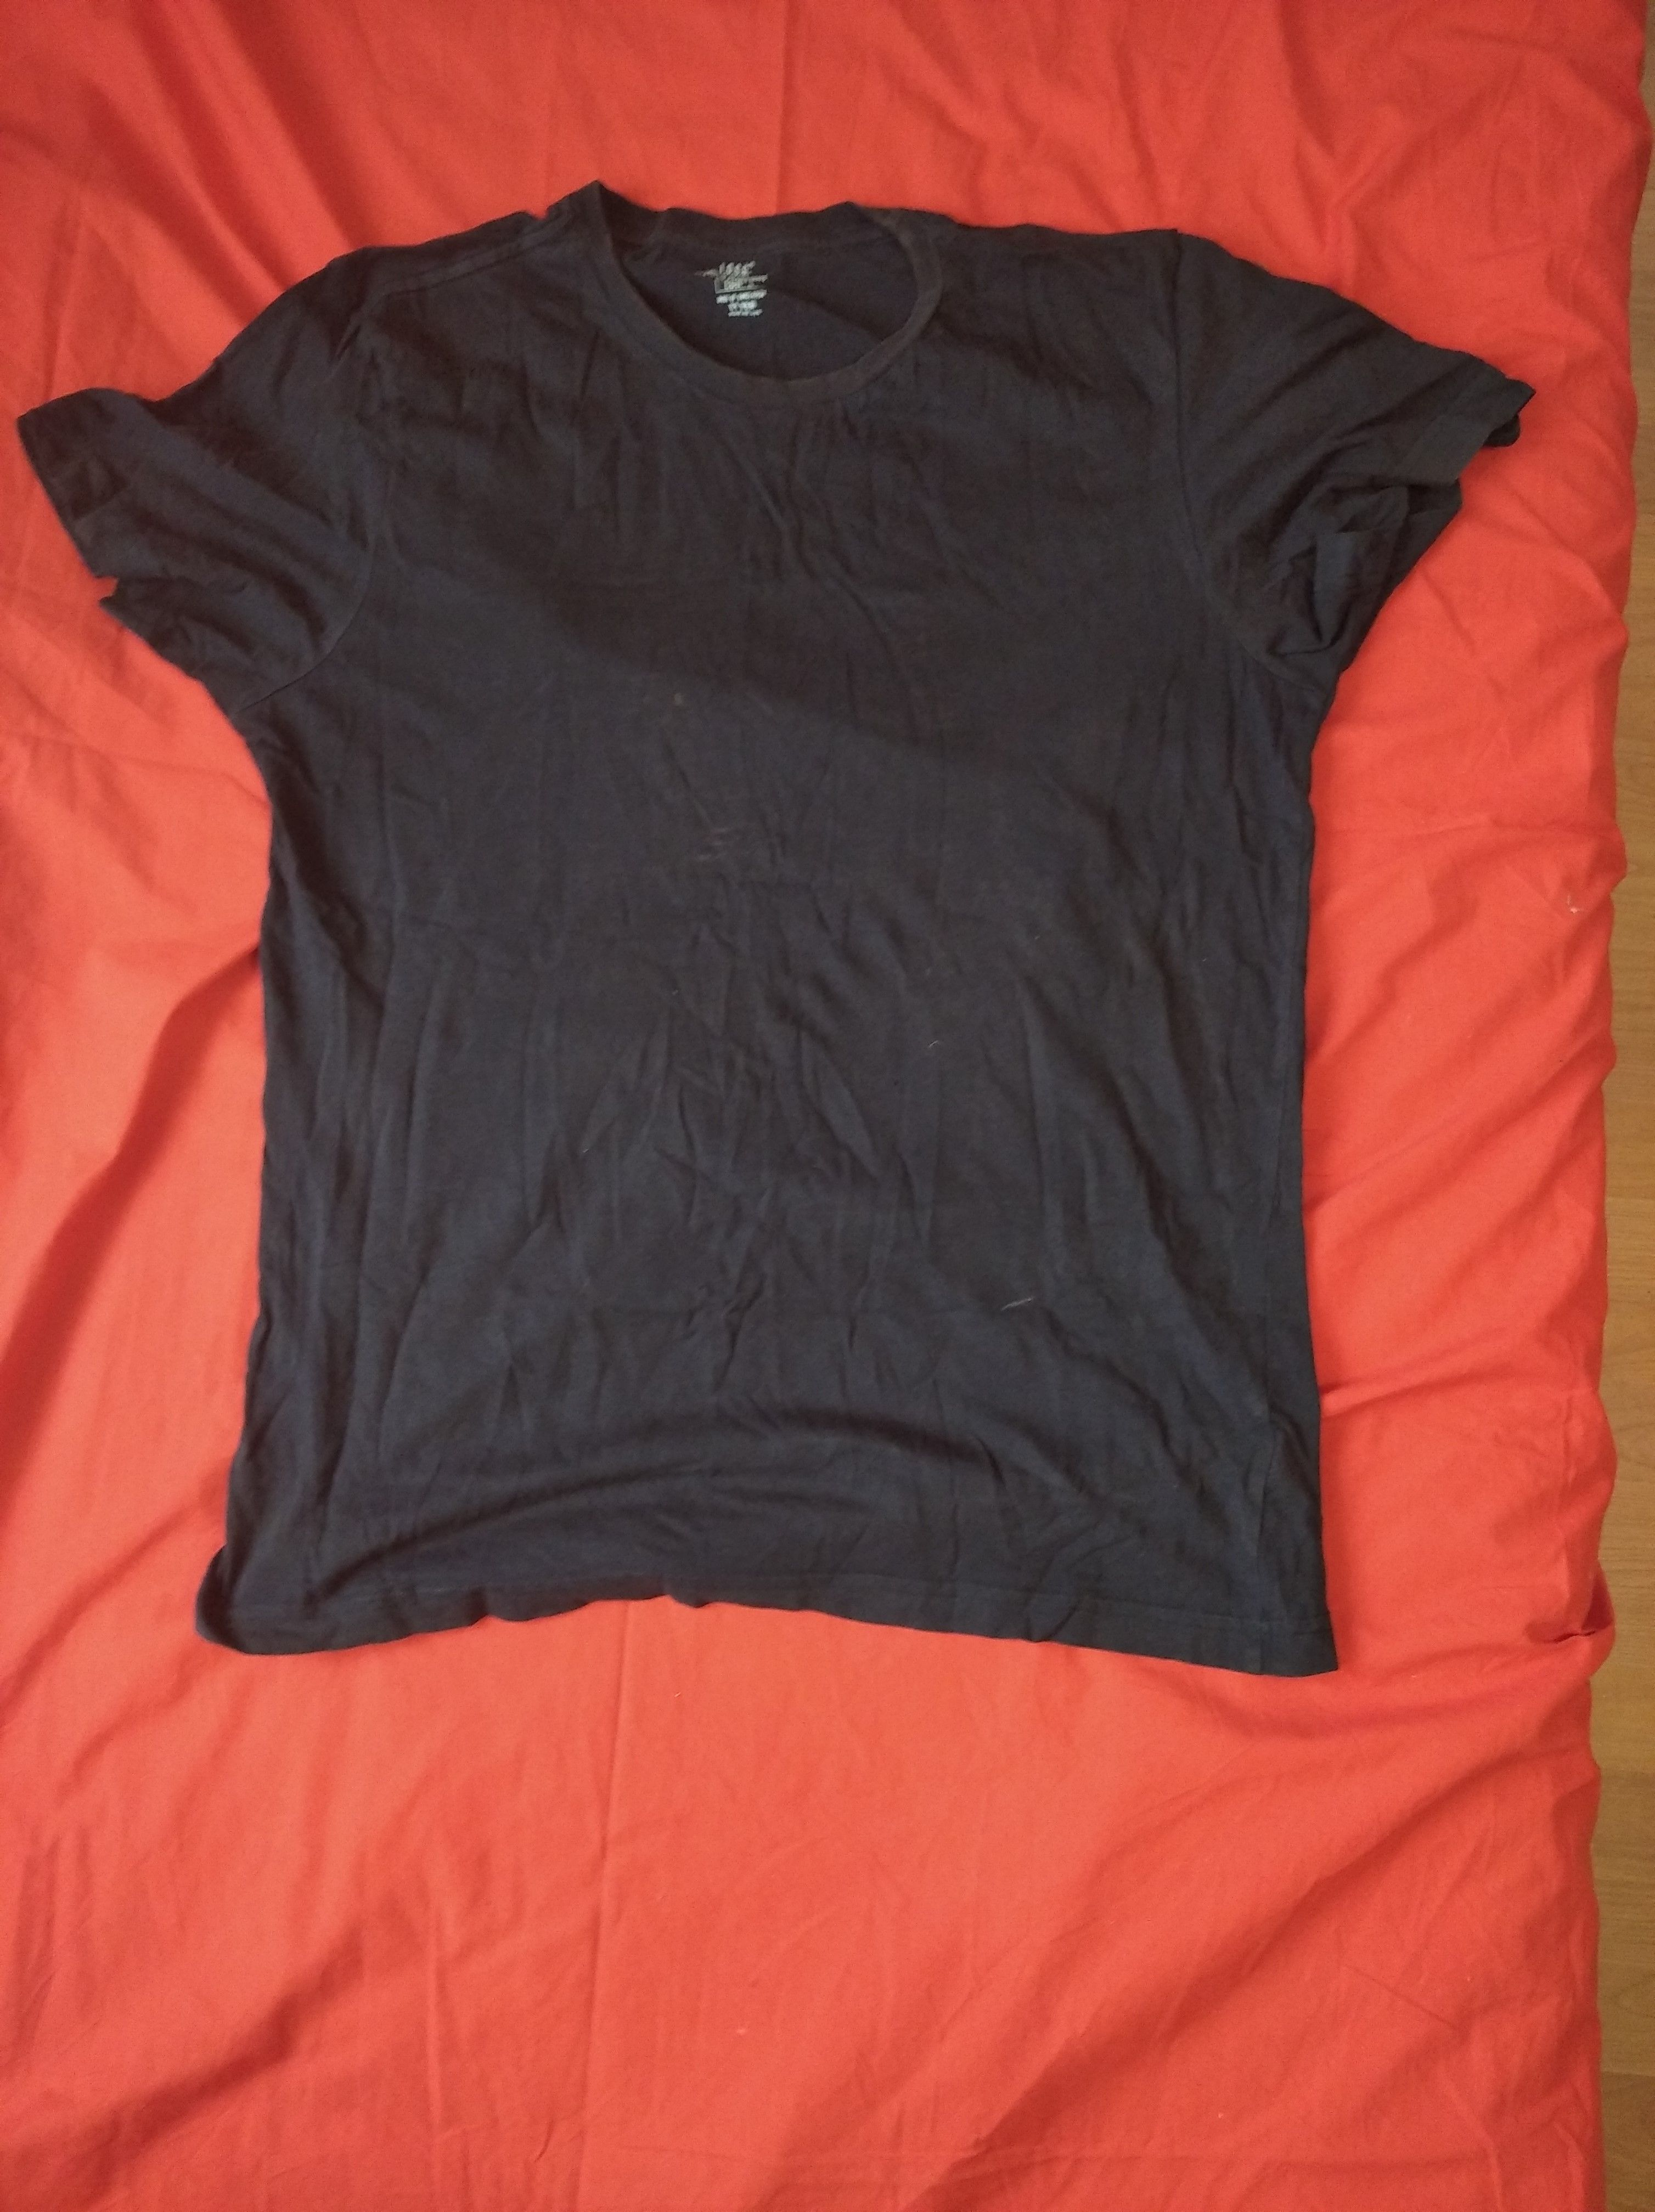clothes: (5, 188, 1540, 1699)
